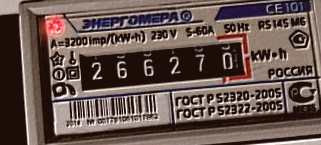0: (221, 50, 234, 72)
2: (89, 60, 105, 82), (168, 54, 181, 76)
6: (115, 59, 130, 80), (141, 57, 155, 77)
7: (193, 52, 207, 74)
screen: (69, 29, 260, 101)
